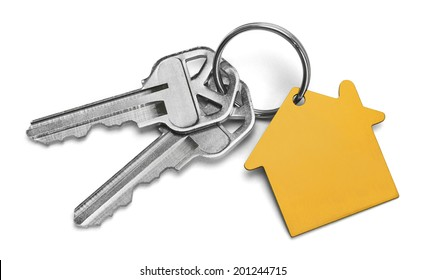key: (24, 47, 260, 231)
